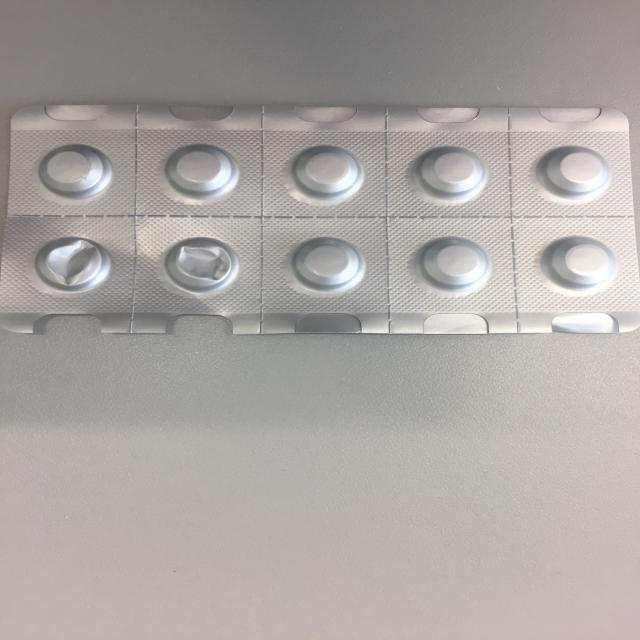Empty: (21, 228, 120, 298), (149, 231, 252, 298)
Pill: (273, 136, 377, 207), (405, 229, 505, 296), (18, 139, 122, 202), (152, 139, 245, 203), (535, 226, 618, 297), (404, 139, 495, 201), (280, 232, 368, 295), (527, 142, 618, 202)
